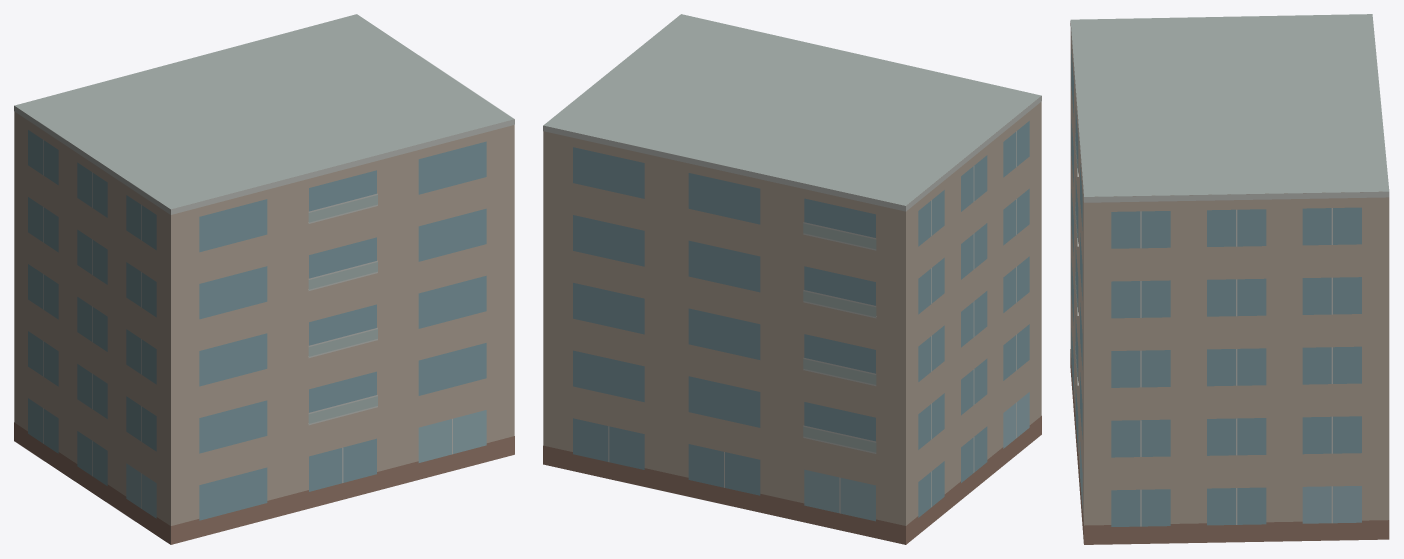
Rendered from survey-upis-32727567.glb.
The picture shows the model from 3 angles, left to right: view 1: azimuth 30°, elevation 25°; view 2: azimuth 150°, elevation 25°; view 3: azimuth 270°, elevation 25°; orthographic projection. The views are drawn at different scales.
Visible parts, largest first — view 1: survey-upis-32727567.tmp; view 2: survey-upis-32727567.tmp; view 3: survey-upis-32727567.tmp.
Boxes of the visible parts, left/top/right/bottom form: survey-upis-32727567.tmp: left=14, top=14, right=514, bottom=544; survey-upis-32727567.tmp: left=543, top=14, right=1041, bottom=544; survey-upis-32727567.tmp: left=1070, top=14, right=1389, bottom=544.
Size of the model in its own units: 16.48 by 14.6 by 12.14.
